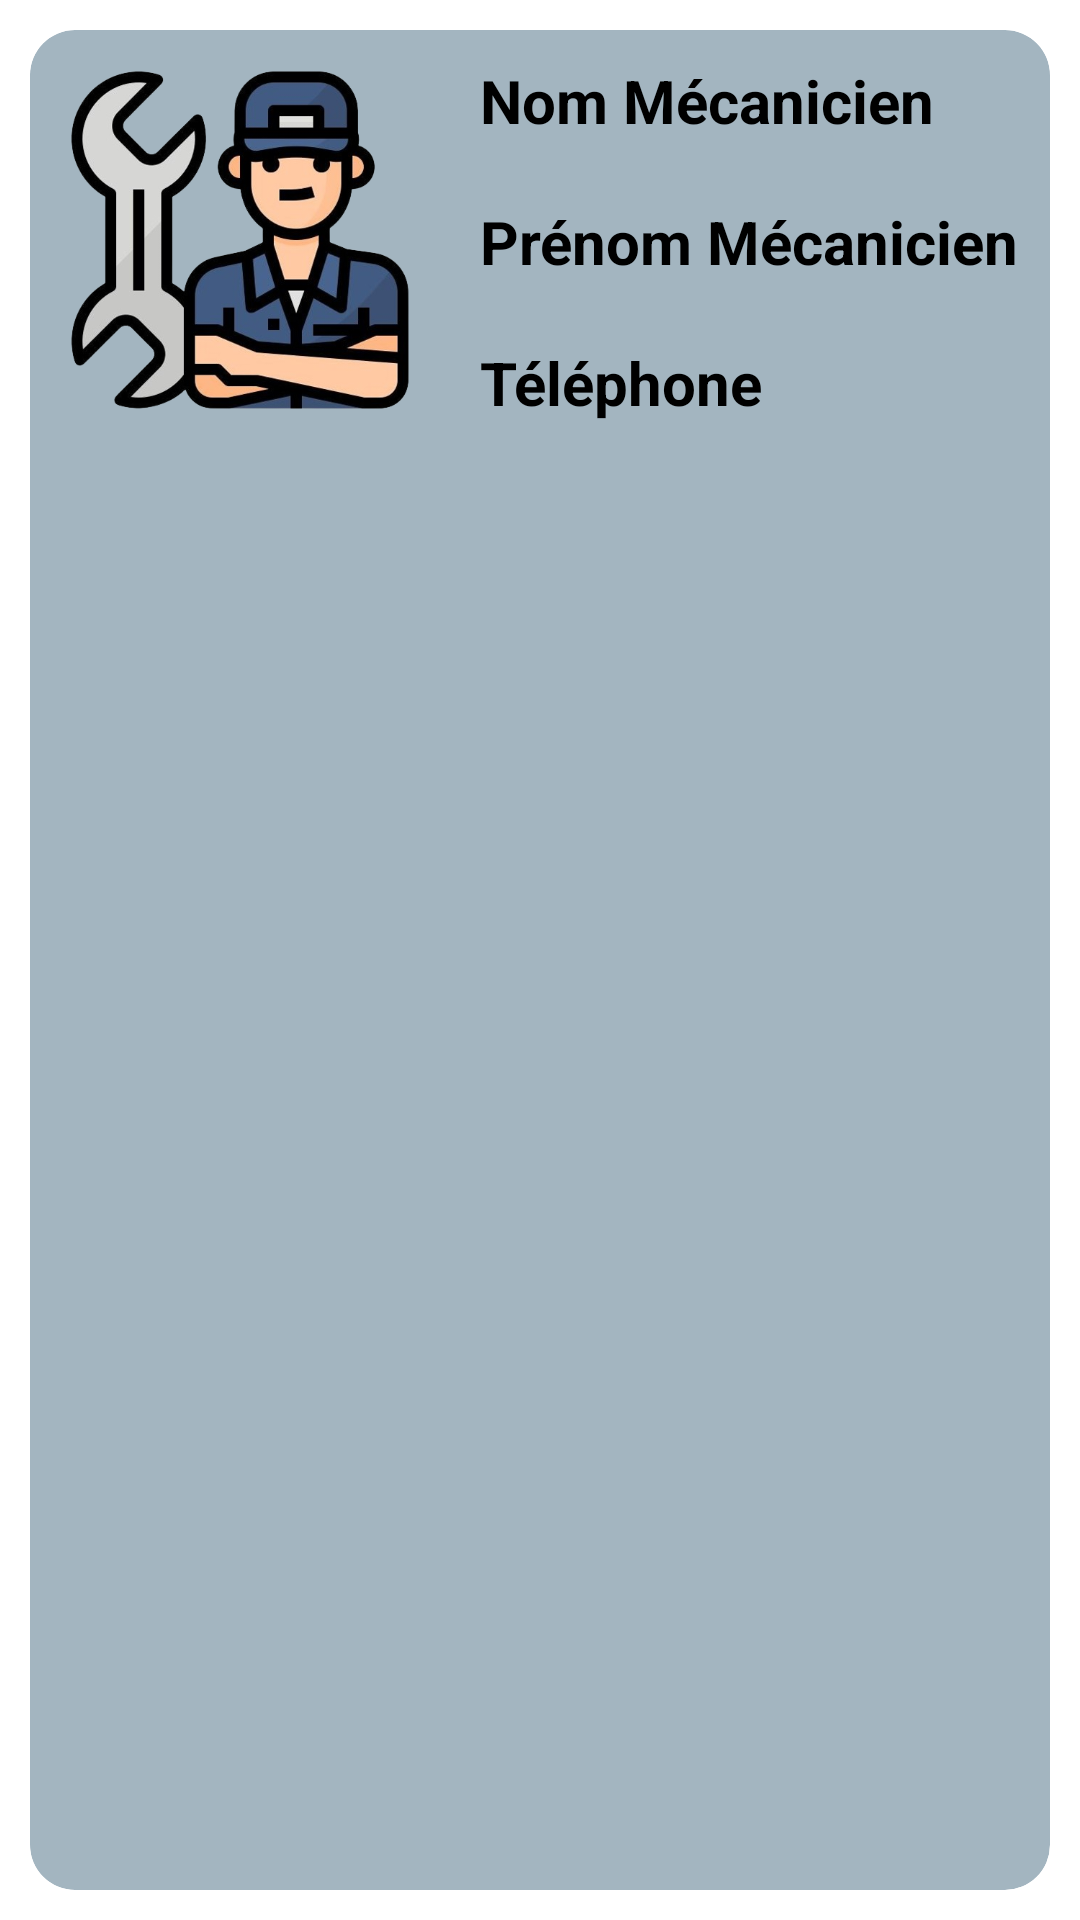

Locate icon controls on the screen. Image size 1080w x 1920h, boxes as bbox(x1, y1, x2, y2).
mecanicien: bbox(71, 71, 409, 409)
